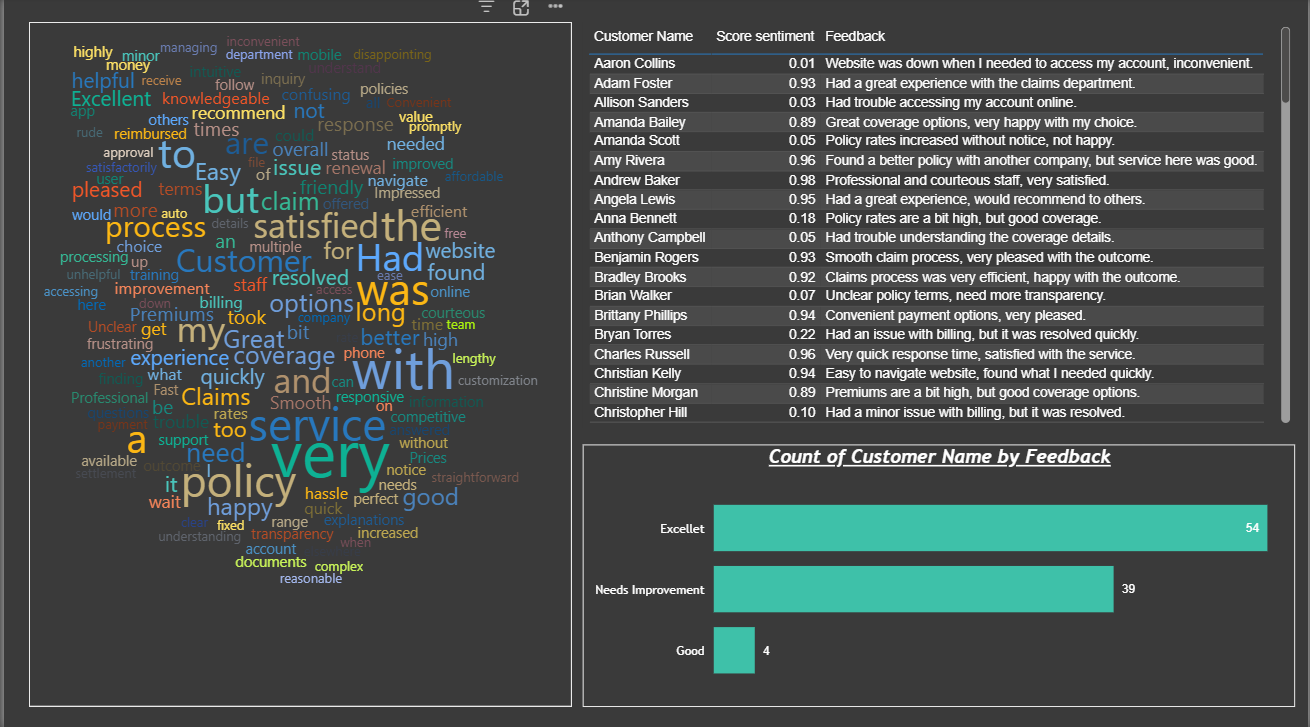

Layout of this report page (visuals, bound fields, positions):
{"tool":"powerbi","page":{"name":"Page 3","canvas":[1280,720],"ordinal":2},"visuals":[{"type":"WordCloud1447959067750","fields":{"Category":["Sheet1.Feedback"],"Values":["Sheet1.Feedback"]},"box":[24.5,24.5,532.5,672.4],"z":0},{"type":"barChart","title":"Count of Customer Name by Feedback","fields":{"Category":["Sheet1.Good/Improvement"],"Y":["Sheet1.Customer Name"]},"box":[568.1,439.3,699.4,257.7],"z":1000},{"type":"tableEx","fields":{"Values":["Sheet1.Customer Name","Sheet1.Score sentiment","Sheet1.Feedback"]},"box":[568.1,24.5,699.4,398.8],"z":2000}]}

Visuals, with their boxes in screenshot pixels (x1, y1, x2, y2), scaled from the page's 1280x720 canvas onto the 1310x727 screenshot:
WordCloud1447959067750 - Sheet1.Feedback x Sheet1.Feedback: detection(25, 25, 570, 704)
"Count of Customer Name by Feedback" barChart: detection(581, 444, 1297, 704)
tableEx - Sheet1.Customer Name x Sheet1.Score sentiment: detection(581, 25, 1297, 427)
